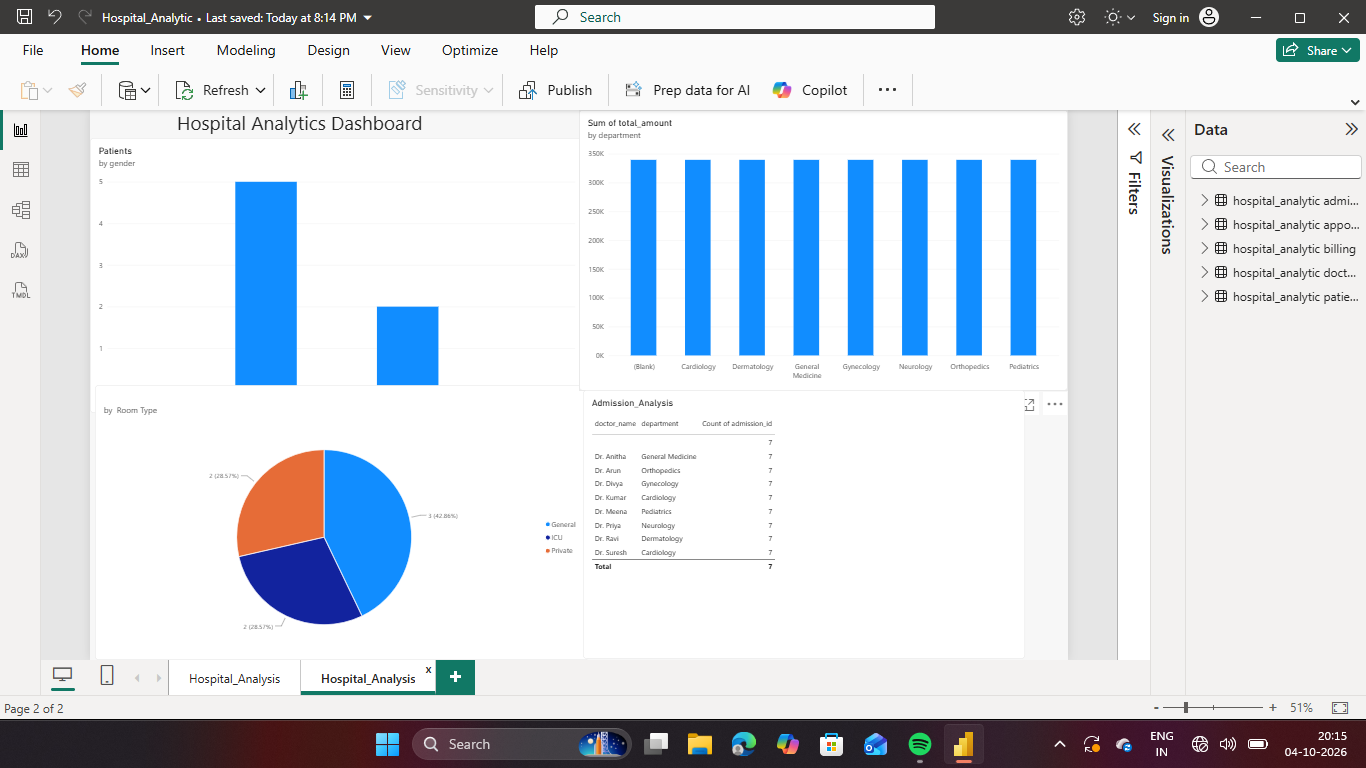

The dashboard page shown, as its layout file describes it:
{"tool":"powerbi","page":{"name":"Hospital_Analysis","canvas":[1920,1080],"ordinal":1},"visuals":[{"type":"clusteredColumnChart","fields":{"Y":["CountNonNull(hospital_analytic admissions.patient_id)"],"Category":["hospital_analytic patients.gender"]},"box":[0,55.3,969.8,539.6],"z":0},{"type":"pieChart","fields":{"Category":["hospital_analytic admissions.room_type"],"Y":["CountNonNull(hospital_analytic admissions.room_type)"]},"box":[9.4,539.6,969.8,539.6],"z":1000},{"type":"columnChart","fields":{"Category":["hospital_analytic doctors.department"],"Y":["Sum(hospital_analytic billing.total_amount)"]},"box":[960.4,0,960.4,550.9],"z":2000},{"type":"tableEx","title":"Admission_Analysis","fields":{"Values":["hospital_analytic doctors.doctor_name","hospital_analytic doctors.department","CountNonNull(hospital_analytic admissions.admission_id)"]},"box":[967.7,550.5,867.7,528.3],"z":3000},{"type":"textbox","box":[100,100,300,300],"z":4000},{"type":"textbox","box":[100,0,623.4,78.7],"z":5000}]}

Visuals, with their boxes on the page's 1920x1080 design canvas (x1, y1, x2, y2). These are canvas units, not pixel positions in the 1366x768 screenshot, which may show the page scaled, cropped or inside an application window:
clusteredColumnChart - CountNonNull(hospital_analytic admissions.patient_id) x hospital_analytic patients.gender: rect(0, 55, 970, 595)
pieChart - hospital_analytic admissions.room_type x CountNonNull(hospital_analytic admissions.room_type): rect(9, 540, 979, 1079)
columnChart - hospital_analytic doctors.department x Sum(hospital_analytic billing.total_amount): rect(960, 0, 1921, 551)
"Admission_Analysis" tableEx: rect(968, 550, 1835, 1079)
textbox: rect(100, 100, 400, 400)
textbox: rect(100, 0, 723, 79)
